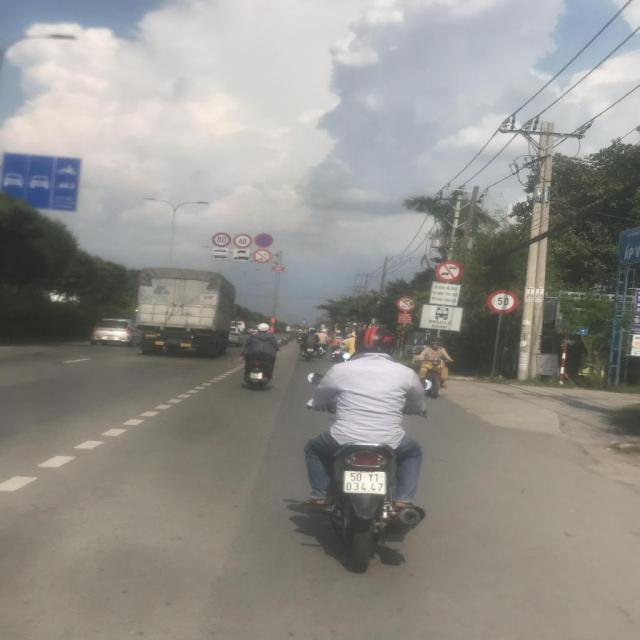cam_cac_loai_xe_3_banh: (396, 296, 416, 312)
cam_dung_xe_va_do_xe: (254, 234, 274, 248)
cam_o_to_tai_va_xe_khach: (435, 261, 463, 282)
cam_xe_2_banh_va_xe_3_banh_co_dong_co: (253, 249, 273, 263)
khac: (419, 305, 463, 332), (429, 282, 461, 306), (233, 248, 249, 256), (212, 247, 229, 254), (211, 254, 228, 260), (233, 255, 249, 261)
lan_duong_cho_tung_xe_theo_vach_ke_duong: (0, 153, 81, 213)
toc_do_toi_da_50: (487, 290, 519, 314)
toc_do_toi_da_60: (232, 234, 253, 248)
toc_do_toi_da_80: (211, 232, 231, 248)
